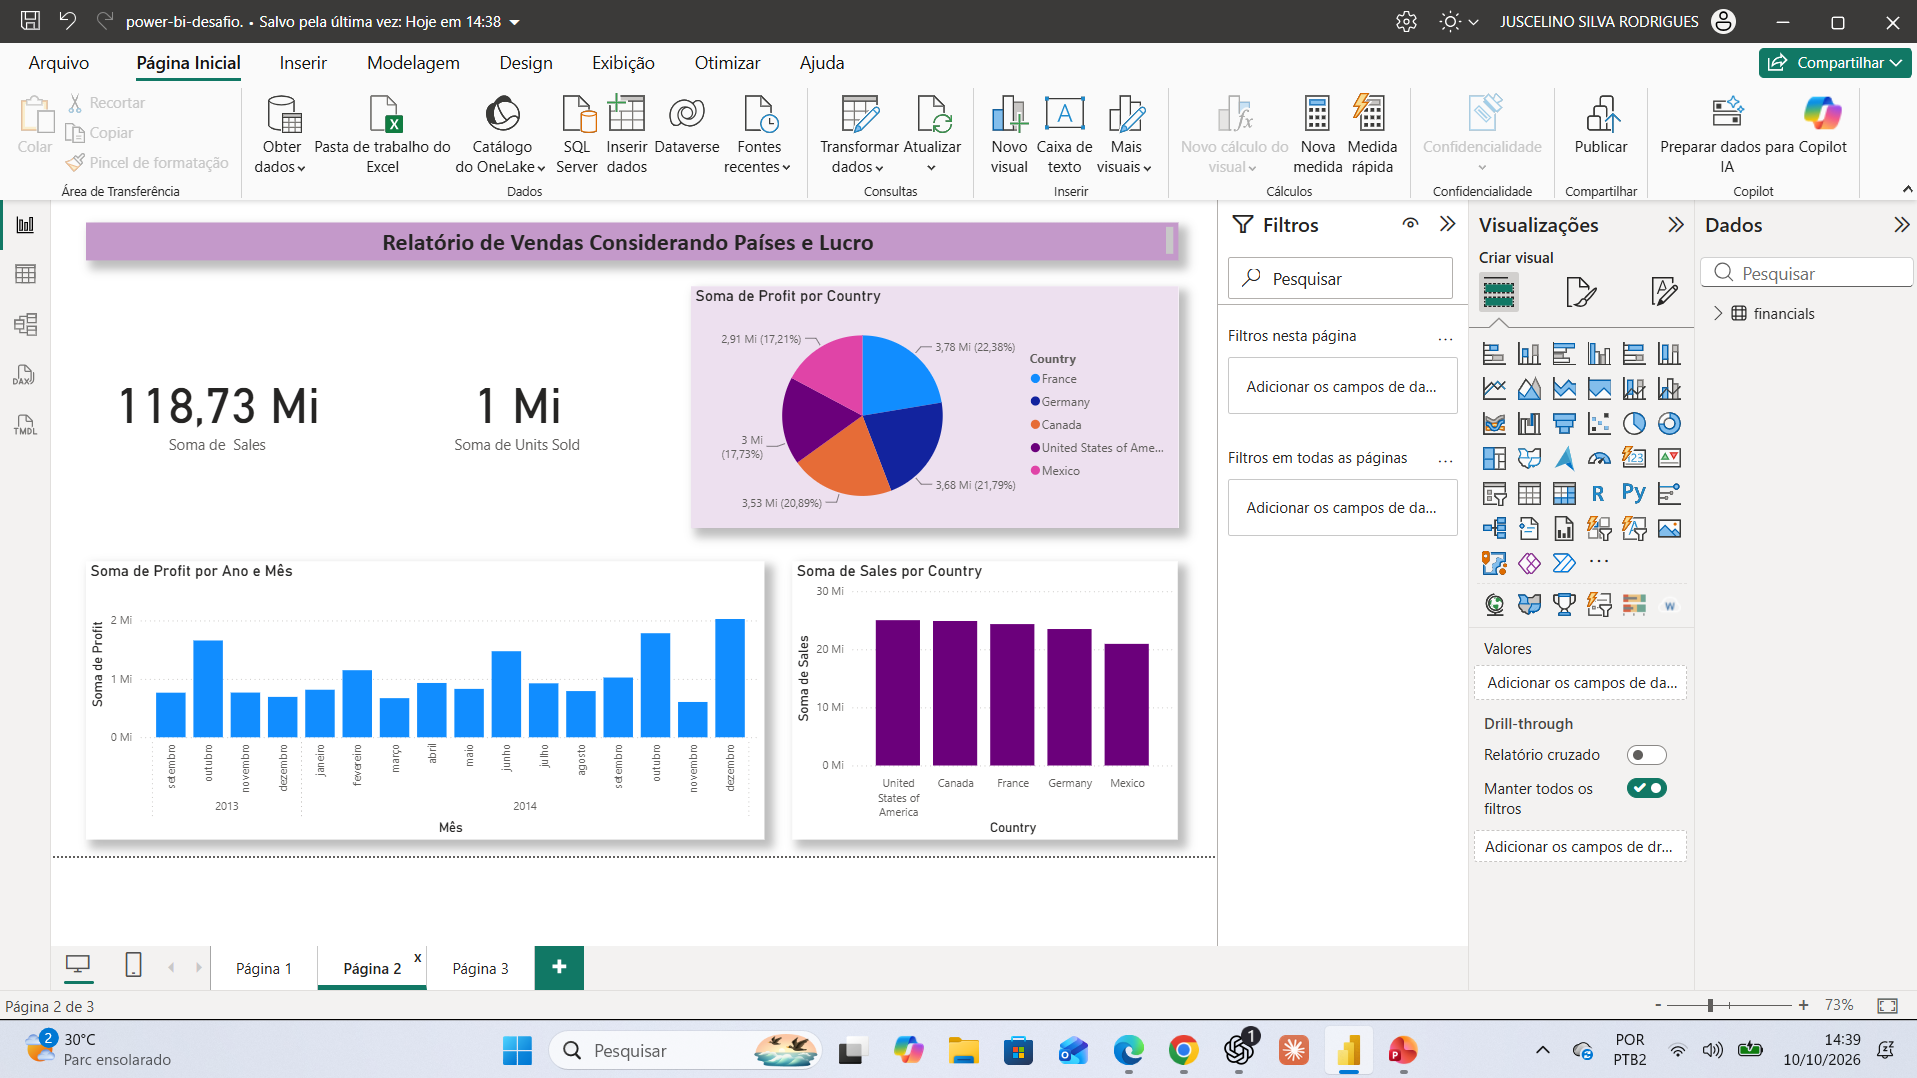

This screenshot's page, from the dashboard's own definition file:
{"tool":"powerbi","page":{"name":"Página 2","canvas":[1280,720],"ordinal":1},"visuals":[{"type":"textbox","box":[38.5,24.7,1198.9,41.2],"z":0},{"type":"card","fields":{"Values":["Sum(financials. Sales)"]},"box":[38.5,155.4,288.7,149.9],"z":1000},{"type":"card","fields":{"Values":["Sum(financials.Units Sold)"]},"box":[357.5,154,308,151.2],"z":2000},{"type":"pieChart","fields":{"Category":["financials.Country"],"Y":["Sum(financials.Profit)"]},"box":[702.6,94.9,534.8,265.3],"z":3000},{"type":"clusteredColumnChart","fields":{"Category":["financials.Date.Variation.Hierarquia de datas.Ano","financials.Date.Variation.Hierarquia de datas.Mês"],"Y":["Sum(financials.Profit)"]},"box":[38.5,396,745.2,305.2],"z":4000},{"type":"clusteredColumnChart","fields":{"Category":["financials.Country"],"Y":["Sum(financials. Sales)"]},"box":[813.9,396,423.5,305.2],"z":5000}]}

Visuals, with their boxes on the page's 1280x720 design canvas (x1, y1, x2, y2). These are canvas units, not pixel positions in the 1917x1078 screenshot, which may show the page scaled, cropped or inside an application window:
textbox: 38,25,1237,66
card - Sum(financials. Sales): 38,155,327,305
card - Sum(financials.Units Sold): 358,154,666,305
pieChart - financials.Country x Sum(financials.Profit): 703,95,1237,360
clusteredColumnChart - financials.Date.Variation.Hierarquia de datas.Ano x financials.Date.Variation.Hierarquia de datas.Mês: 38,396,784,701
clusteredColumnChart - financials.Country x Sum(financials. Sales): 814,396,1237,701
